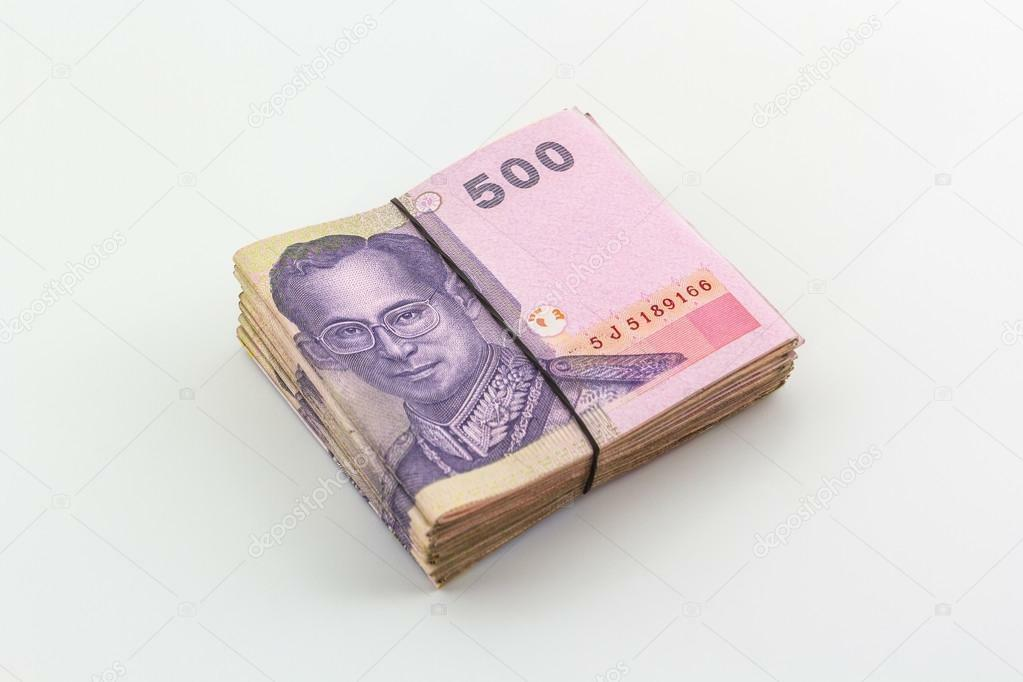500BahtTai: (226, 105, 778, 514)
